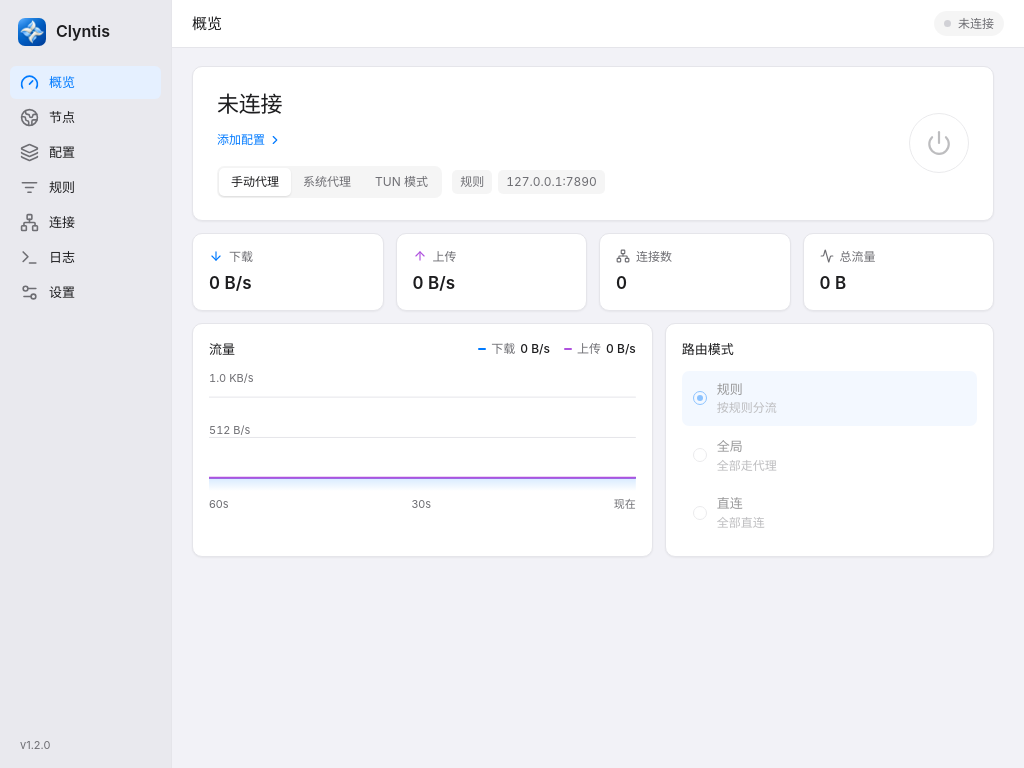
Test case: desktop workflows › does not connect without a profile and offers an import path
Expected: the button named "启动连接" is disabled, [909,113,969,173]
Click the button "添加配置": {"x": 250, "y": 140} [217,127,282,152]
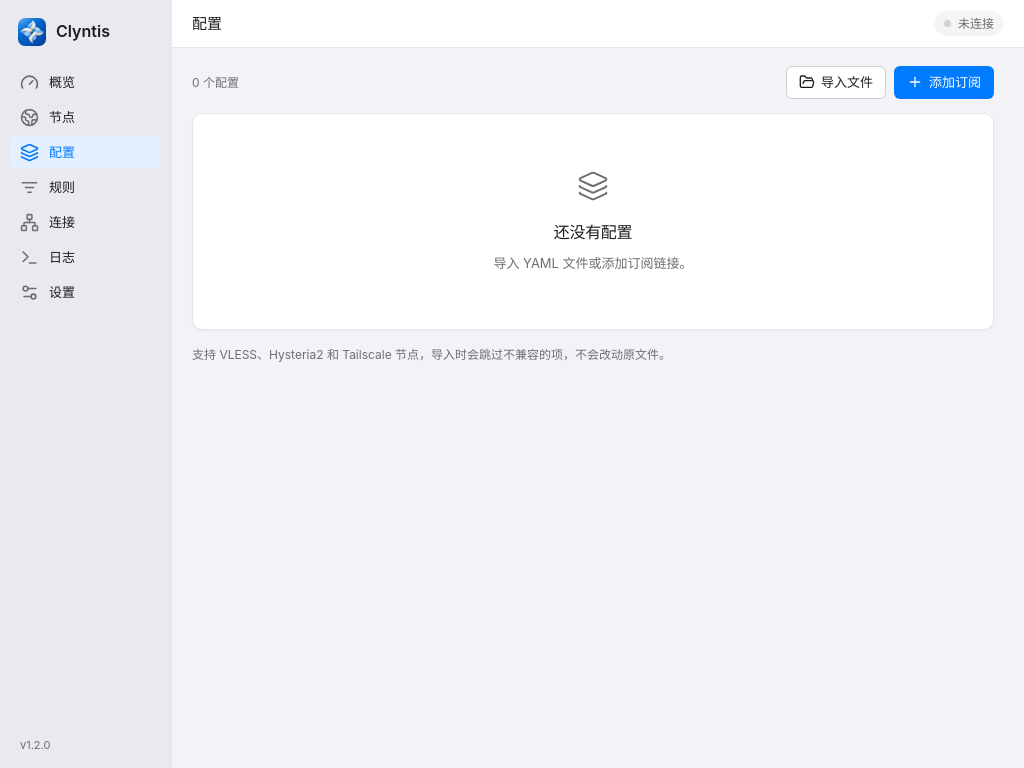
Expected: the heading "还没有配置" is shown, [554,221,632,244]
